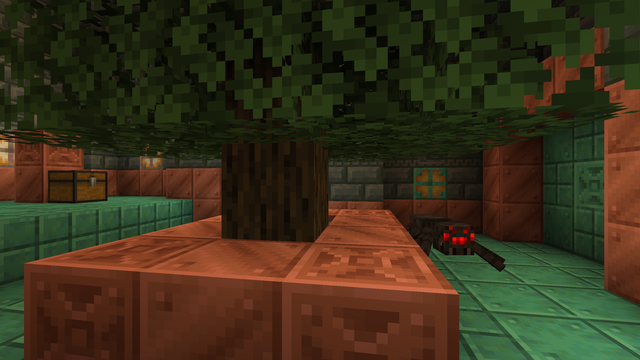araignees: (400, 211, 497, 275)
